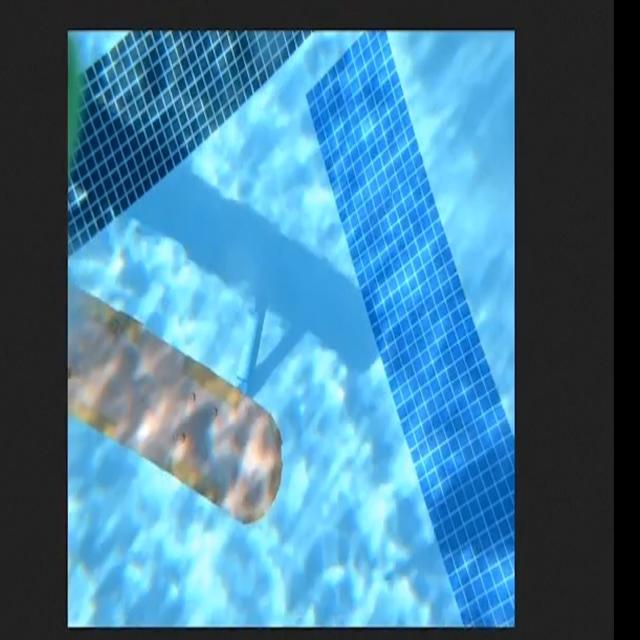Path: (68, 247, 292, 532)
